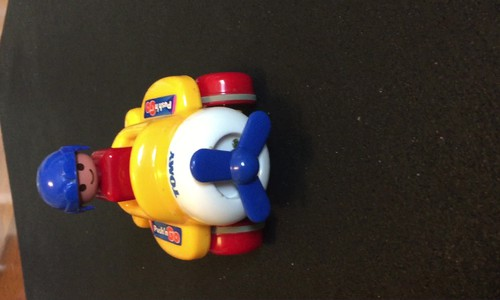toy: (38, 57, 278, 261)
